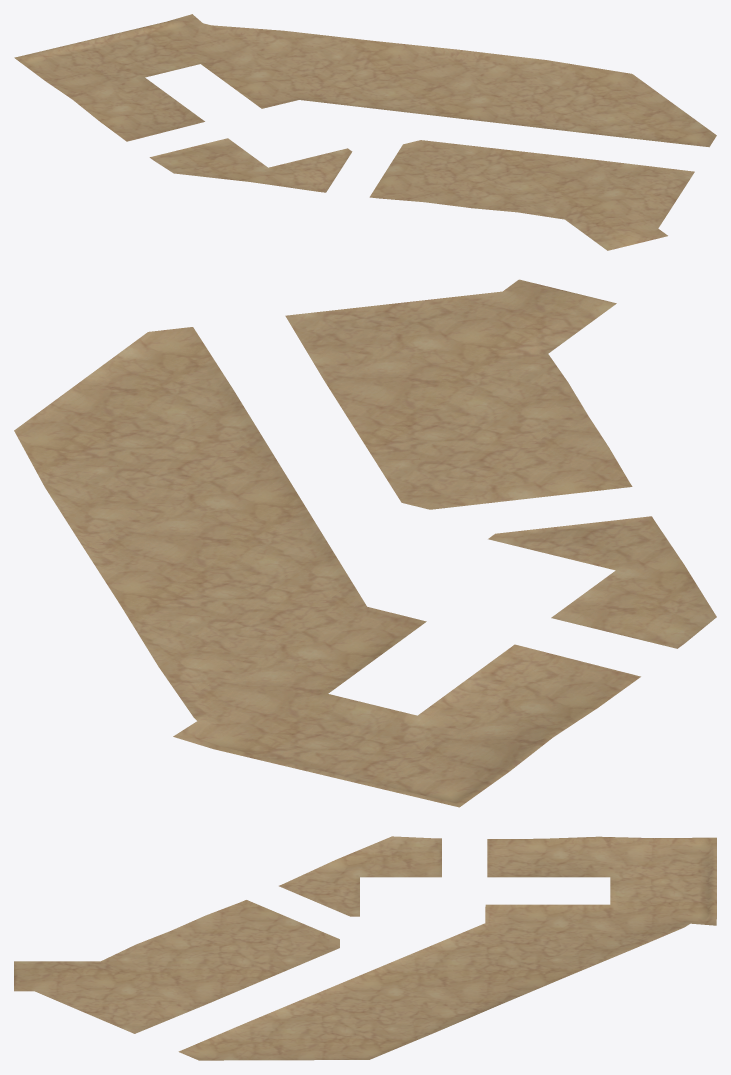
The model's file is SM_ENV_LKNVLD_Ground_Left_Side_Grass_02.FBX.
3 renders of one model, top to bottom at view 1: azimuth 30°, elevation 25°; view 2: azimuth 150°, elevation 25°; view 3: azimuth 270°, elevation 25°, orthographic. The views are drawn at different scales.
Visible parts, largest first — view 1: SM_ENV_LKNVLD_Ground_Left_Side_Grass_02; view 2: SM_ENV_LKNVLD_Ground_Left_Side_Grass_02; view 3: SM_ENV_LKNVLD_Ground_Left_Side_Grass_02.
Part boxes in pixels (<box>): SM_ENV_LKNVLD_Ground_Left_Side_Grass_02: <box>14,14,716,250</box>; SM_ENV_LKNVLD_Ground_Left_Side_Grass_02: <box>14,279,716,807</box>; SM_ENV_LKNVLD_Ground_Left_Side_Grass_02: <box>14,836,716,1060</box>.
Bounding box in the file's own units: 5062 × 62.6 × 6764.
